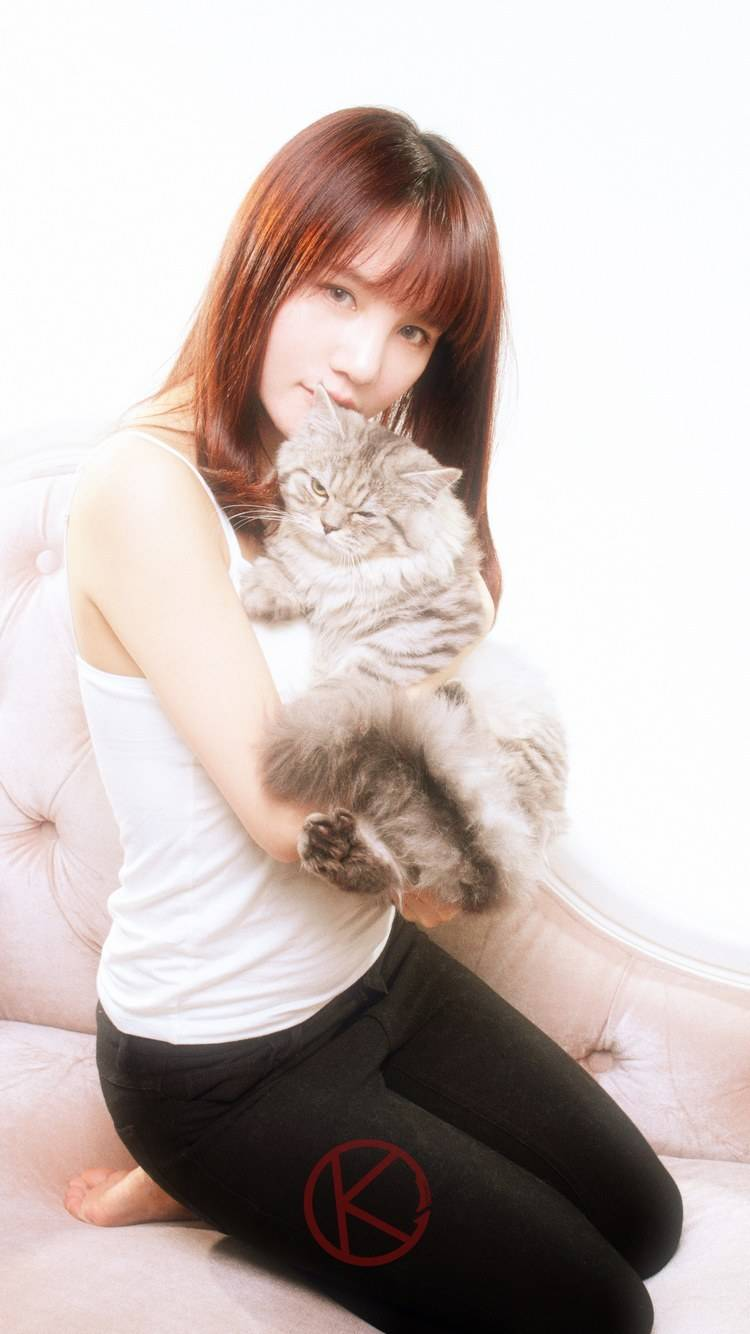person: (96, 137, 589, 1237)
